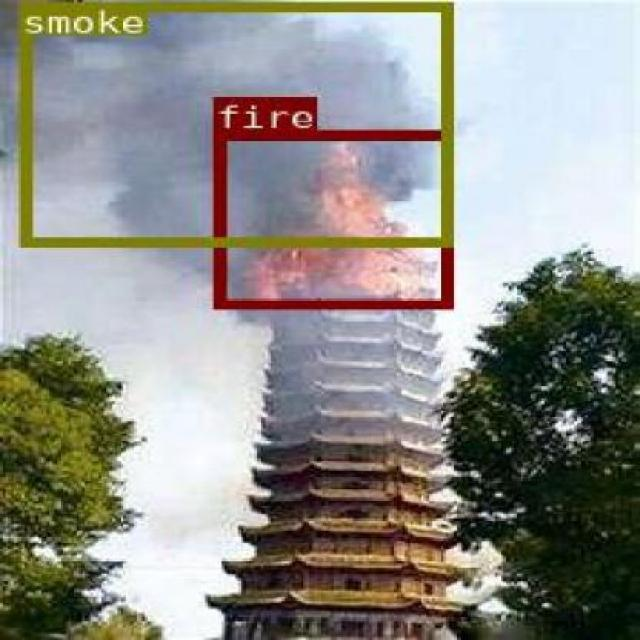fire: (212, 129, 448, 306)
smoke: (17, 1, 450, 246)
